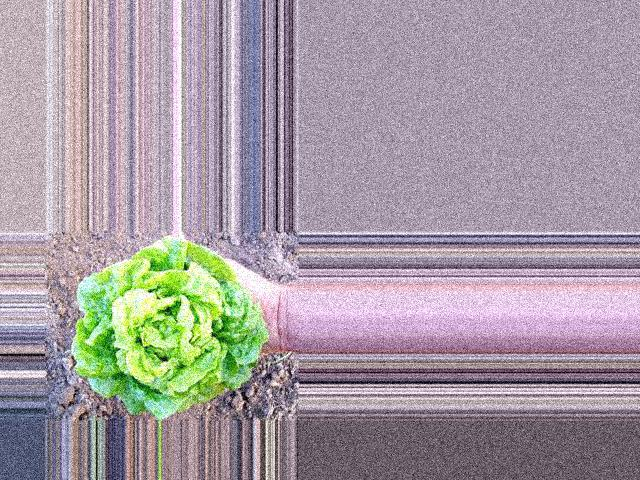lettuce: (140, 262, 262, 456)
